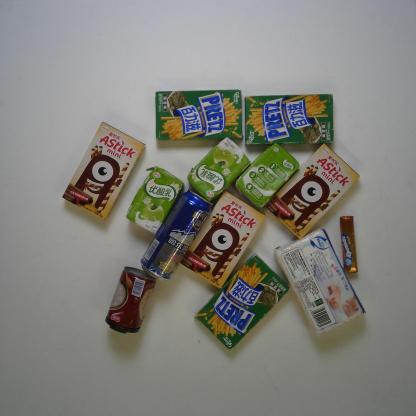Alcohol: (143, 186, 208, 278)
Candy: (334, 214, 364, 276)
Canned Food: (106, 266, 158, 337)
Dessert: (192, 250, 292, 353), (263, 142, 361, 244), (60, 118, 149, 223), (180, 189, 266, 290), (150, 87, 245, 144), (243, 92, 340, 142)
Milk: (232, 141, 302, 212), (188, 132, 253, 200), (124, 164, 183, 234)
Tissue: (276, 235, 370, 340)
